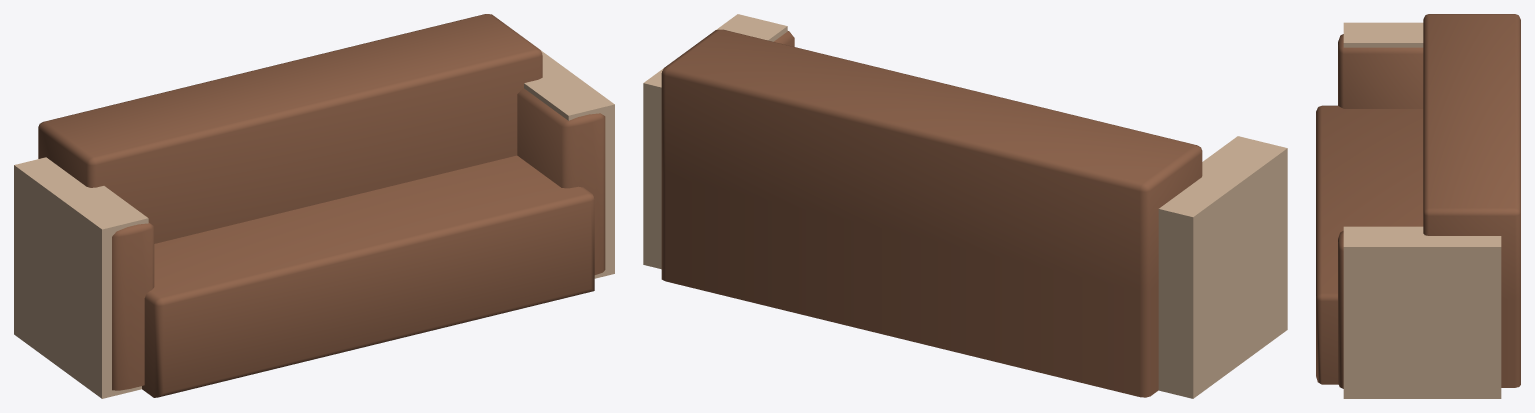
File: Armchair.fbx
The picture shows the model from 3 angles, left to right: view 1: azimuth 30°, elevation 25°; view 2: azimuth 150°, elevation 25°; view 3: azimuth 270°, elevation 25°; orthographic projection. The views are drawn at different scales.
Visible parts, largest first — view 1: Armchair; view 2: Armchair; view 3: Armchair.
Boxes of the visible parts, box(x1,y1,x2,y2) form: Armchair: box(14, 14, 614, 398); Armchair: box(643, 14, 1287, 398); Armchair: box(1316, 14, 1520, 398).
Bounding box in the file's own units: 2.72 × 1 × 1.05.
